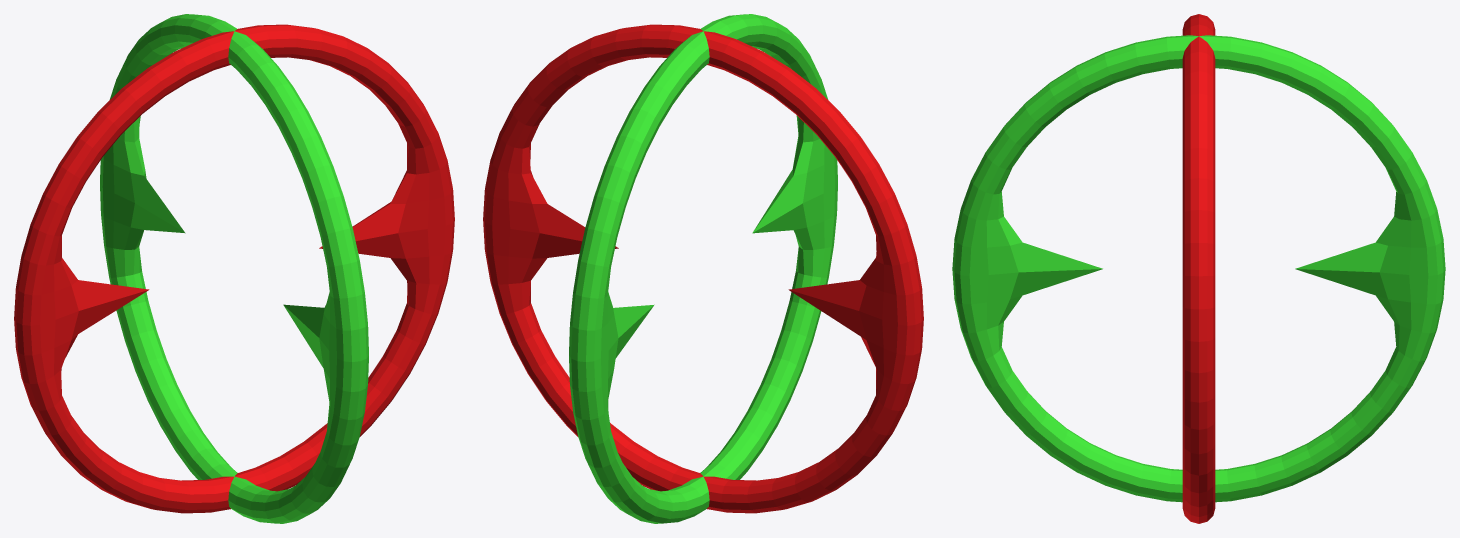
The model's file is MoveToBeacon.fbx.
The picture shows the model from 3 angles, left to right: view 1: azimuth 30°, elevation 25°; view 2: azimuth 150°, elevation 25°; view 3: azimuth 270°, elevation 25°; orthographic projection. The views are drawn at different scales.
Parts seen in each view (by area): view 1: Beacon; view 2: Beacon; view 3: Beacon.
Boxes of the visible parts, x1,y1,x2,y2 form: Beacon: (14, 14, 454, 523); Beacon: (483, 14, 923, 523); Beacon: (952, 14, 1445, 523).
Size of the model in its own units: 199 by 207 by 199.
